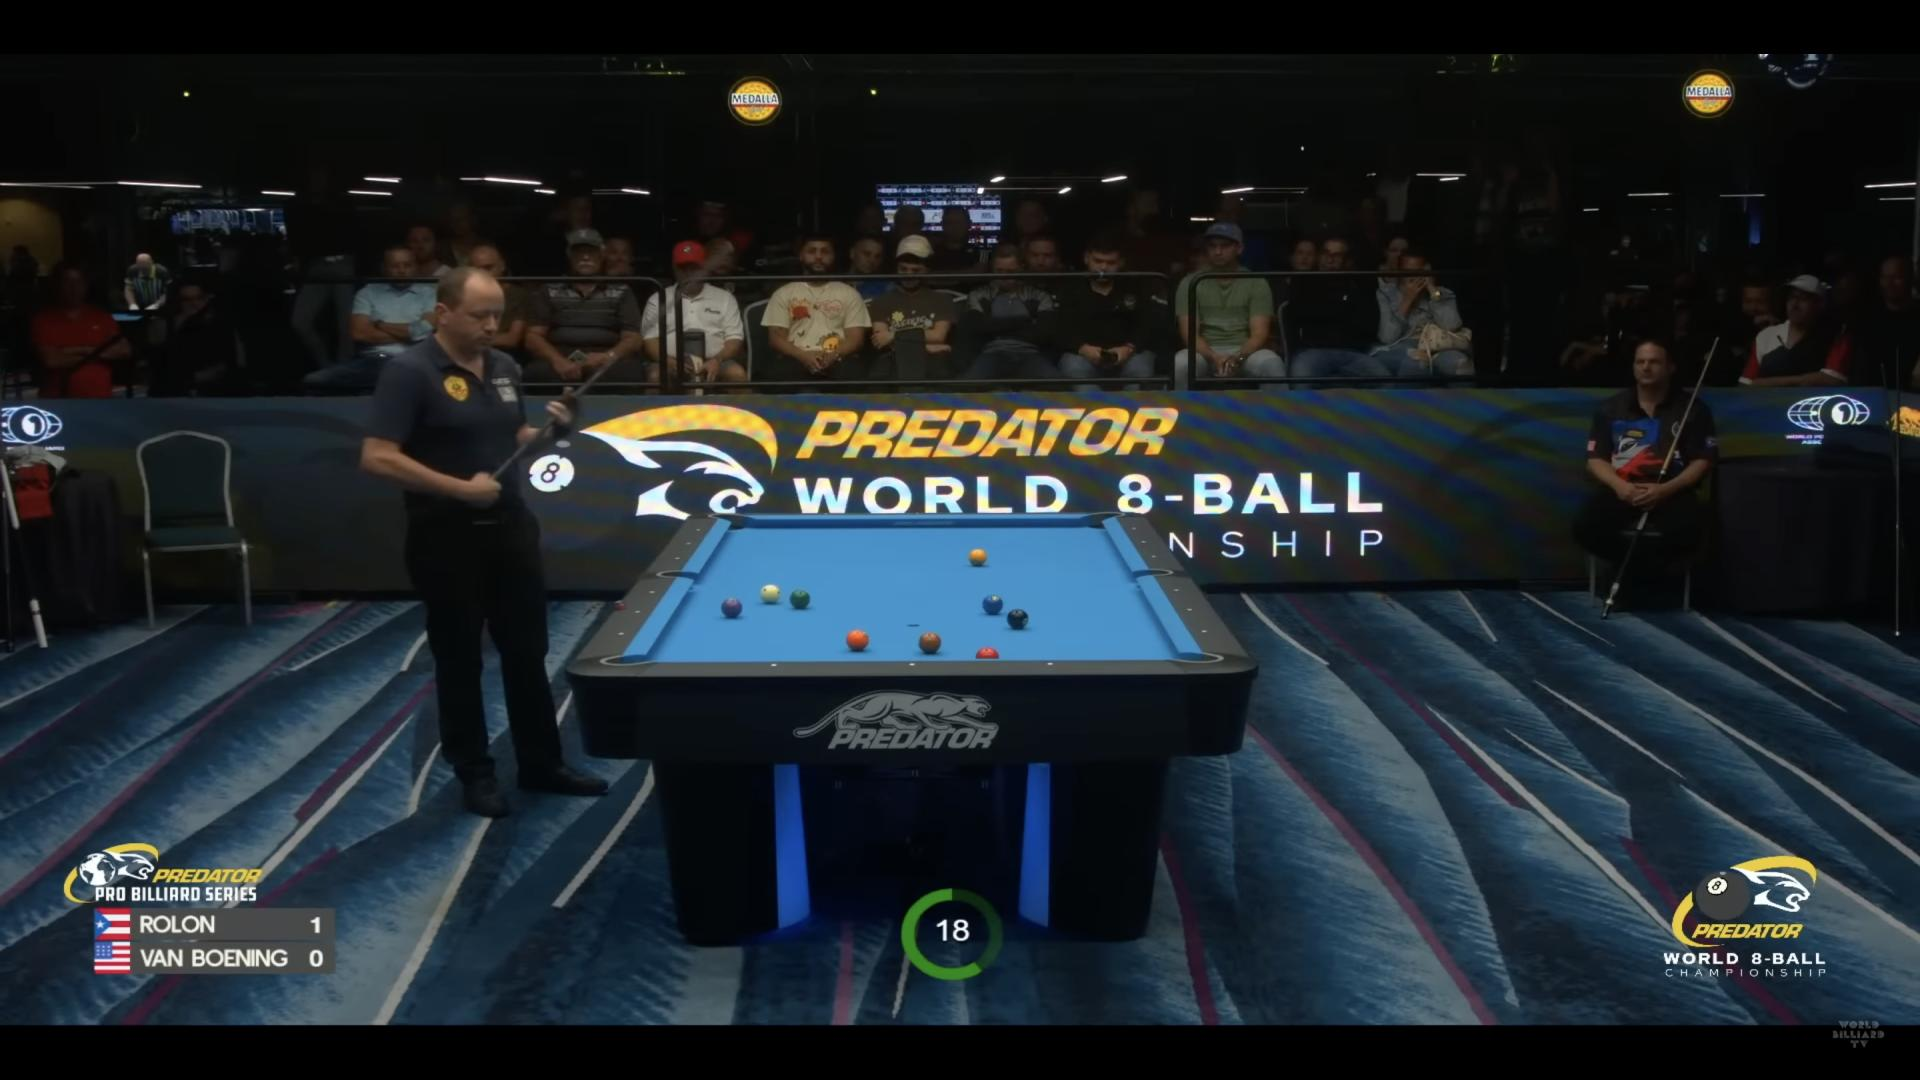Black: (1006, 609, 1029, 629)
Cue: (760, 584, 781, 604)
Dot: (1172, 587, 1182, 595), (1149, 553, 1158, 560), (1139, 538, 1149, 546), (1130, 525, 1139, 533), (617, 629, 626, 637), (1185, 605, 1193, 613), (633, 608, 641, 616), (694, 526, 702, 534), (822, 509, 829, 517), (770, 662, 778, 669), (647, 589, 655, 596), (674, 554, 682, 560), (683, 541, 691, 547), (909, 661, 915, 667), (1047, 661, 1054, 667), (1201, 629, 1208, 634), (915, 512, 919, 516)
Solid: (918, 633, 942, 654), (847, 630, 869, 650), (982, 595, 1004, 615), (720, 599, 742, 617), (790, 589, 811, 608), (968, 549, 988, 566), (976, 646, 998, 658)
